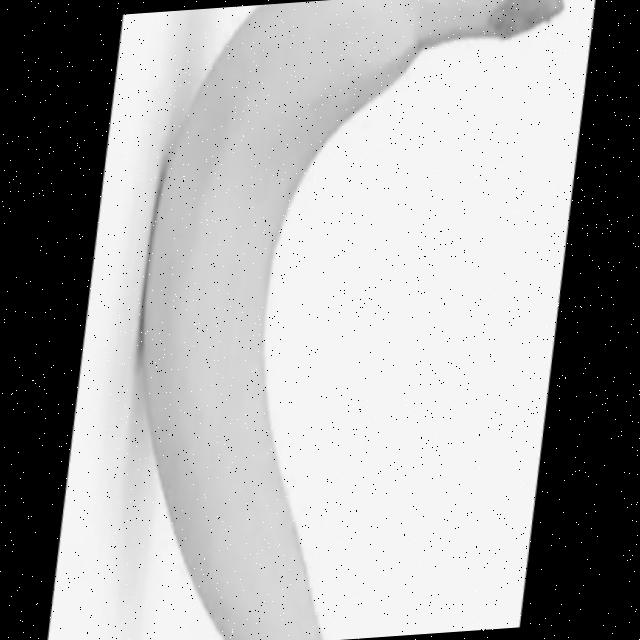banana: (116, 0, 606, 640)
